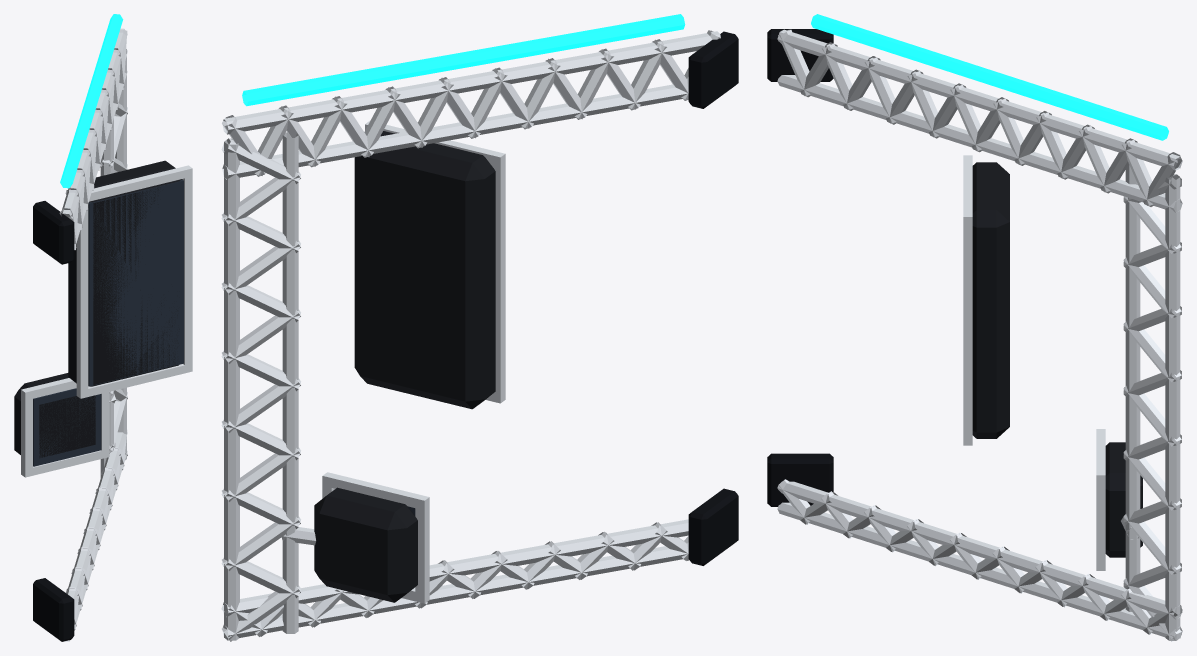
The model's file is mirror_stay_grand.glb.
The picture shows the model from 3 angles, left to right: view 1: azimuth 30°, elevation 25°; view 2: azimuth 150°, elevation 25°; view 3: azimuth 270°, elevation 25°; orthographic projection. The views are drawn at different scales.
Parts seen in each view (by area): view 1: mirror_stay_grand_chrome, mirror_stay_grand_deco_mirror, mirror_stay_grand_deco_body, mirror_stay_grand_deco_trim, mirror_stay_grand_deco_neon; view 2: mirror_stay_grand_chrome, mirror_stay_grand_deco_body, mirror_stay_grand_deco_neon, mirror_stay_grand_deco_trim; view 3: mirror_stay_grand_chrome, mirror_stay_grand_deco_body, mirror_stay_grand_deco_neon, mirror_stay_grand_deco_trim.
Part boxes in pixels (left/top/right/bottom): mirror_stay_grand_chrome: left=21, top=28, right=192, bottom=641; mirror_stay_grand_deco_mirror: left=33, top=179, right=183, bottom=466; mirror_stay_grand_deco_body: left=14, top=160, right=182, bottom=458; mirror_stay_grand_deco_trim: left=33, top=201, right=74, bottom=641; mirror_stay_grand_deco_neon: left=60, top=14, right=123, bottom=188; mirror_stay_grand_chrome: left=221, top=30, right=720, bottom=641; mirror_stay_grand_deco_body: left=314, top=131, right=495, bottom=602; mirror_stay_grand_deco_neon: left=242, top=14, right=685, bottom=106; mirror_stay_grand_deco_trim: left=688, top=31, right=738, bottom=565; mirror_stay_grand_chrome: left=777, top=29, right=1182, bottom=641; mirror_stay_grand_deco_body: left=972, top=162, right=1142, bottom=557; mirror_stay_grand_deco_neon: left=811, top=14, right=1168, bottom=140; mirror_stay_grand_deco_trim: left=767, top=29, right=833, bottom=506.
Size of the model in its own units: 0.484 by 0.8435 by 0.6248.
